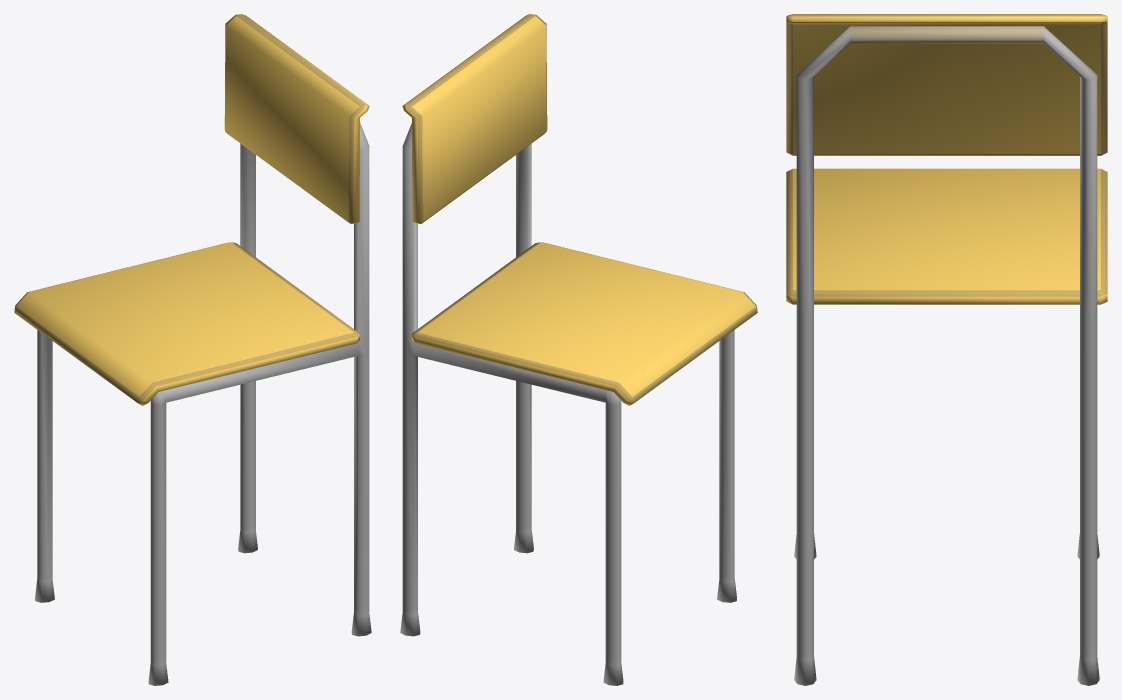
File: chair.glb
The picture shows the model from 3 angles, left to right: view 1: azimuth 30°, elevation 25°; view 2: azimuth 150°, elevation 25°; view 3: azimuth 270°, elevation 25°; orthographic projection. The views are drawn at different scales.
Visible parts, largest first — view 1: Cylinder.001; view 2: Cylinder.001; view 3: Cylinder.001.
Part boxes in pixels (x1,y1,x2,y2): Cylinder.001: [14, 14, 371, 685]; Cylinder.001: [400, 14, 757, 685]; Cylinder.001: [786, 14, 1107, 685].
Bounding box in the file's own units: 1.07 × 2.28 × 1.
Materials: 1 (1 with a texture image).
